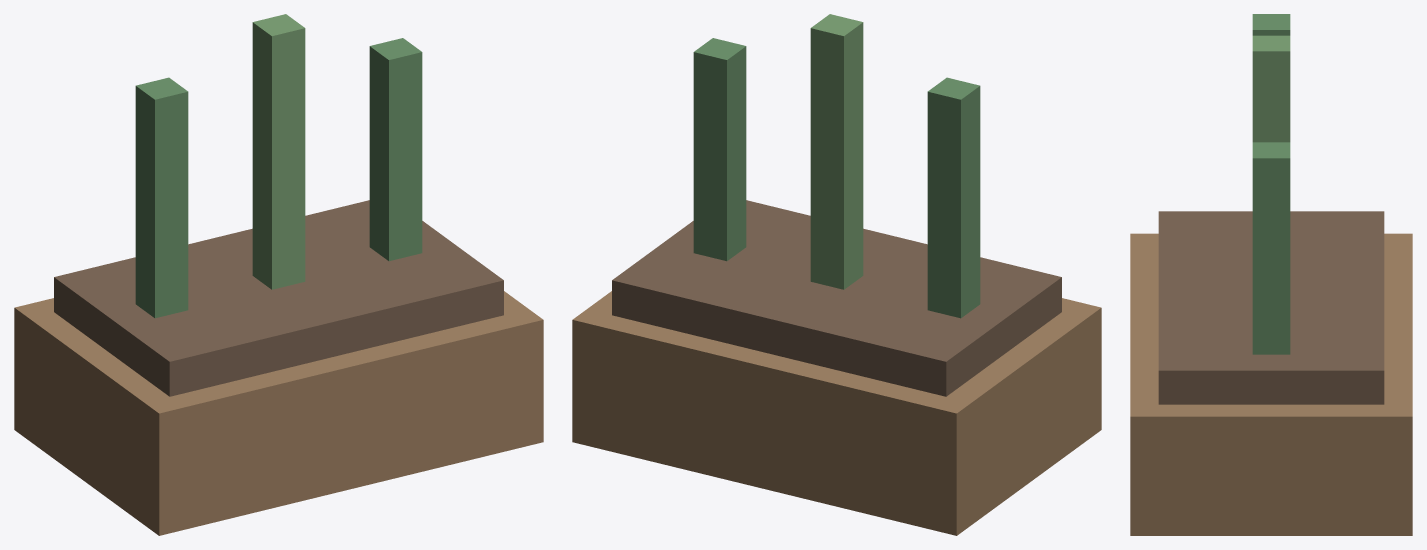
Rendered from planter.gltf.
3 views of the same model, side by side, from view 1: azimuth 30°, elevation 25°; view 2: azimuth 150°, elevation 25°; view 3: azimuth 270°, elevation 25° (orthographic). The views are drawn at different scales.
Visible parts, largest first — view 1: planter; view 2: planter; view 3: planter.
Boxes of the visible parts, x1,y1,x2,y2 form: planter: (14,14,543,535); planter: (572,14,1101,535); planter: (1130,14,1412,535).
Size of the model in its own units: 0.92 by 0.94 by 0.6.
